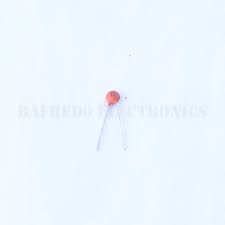ceramic capacitor: (97, 81, 145, 129)
